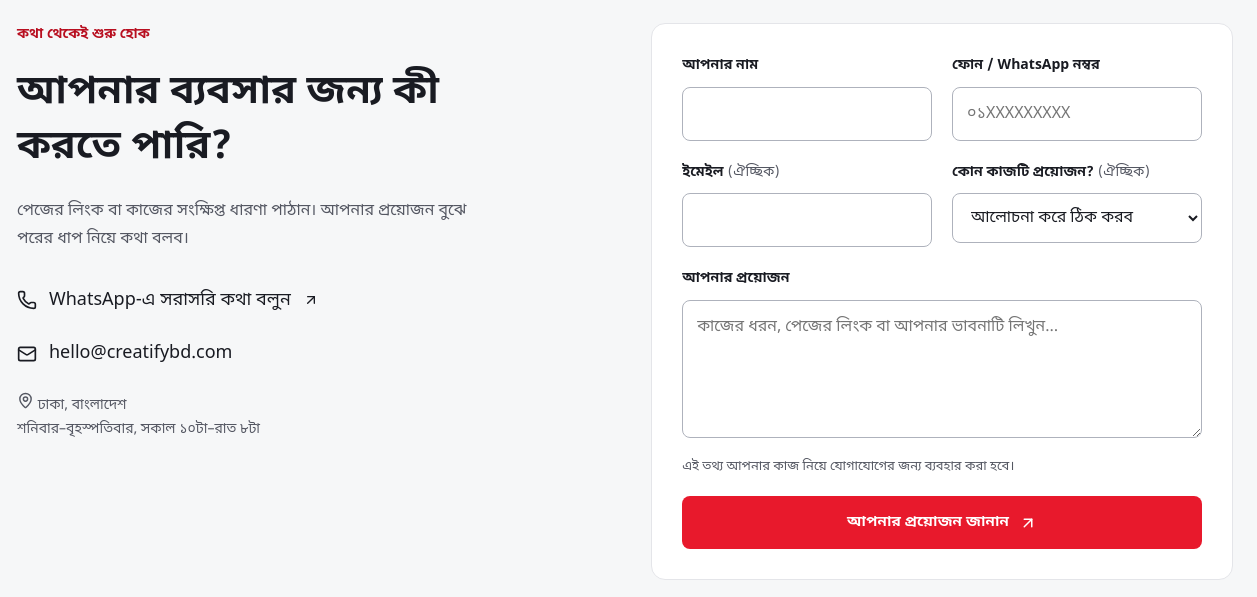
Test: Bengali inquiry form › accepts Bengali phone digits and an empty optional email
This screenshot has width=1257, height=597.
Type "আলিফ হাসান" into the field labelled "আপনার নাম" at (807, 114), box [682,86,932,140]
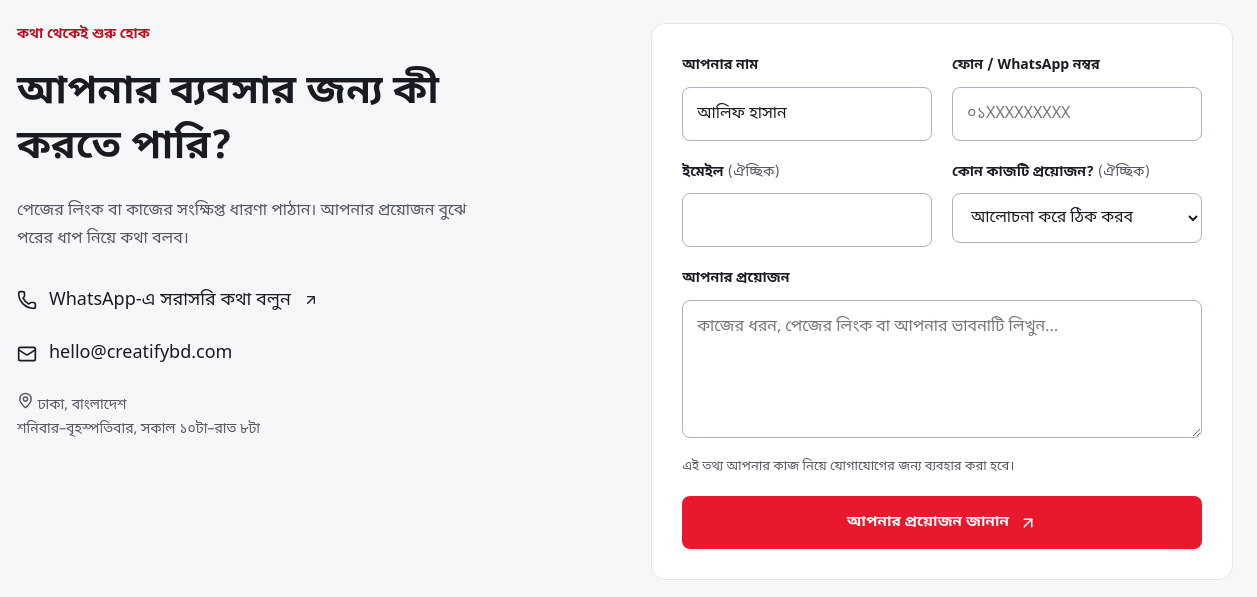
Type "০১৭১২ ৩৪৫৬৭৮" into the field labelled "ফোন / WhatsApp নম্বর" at (1077, 114), box [952,86,1202,140]
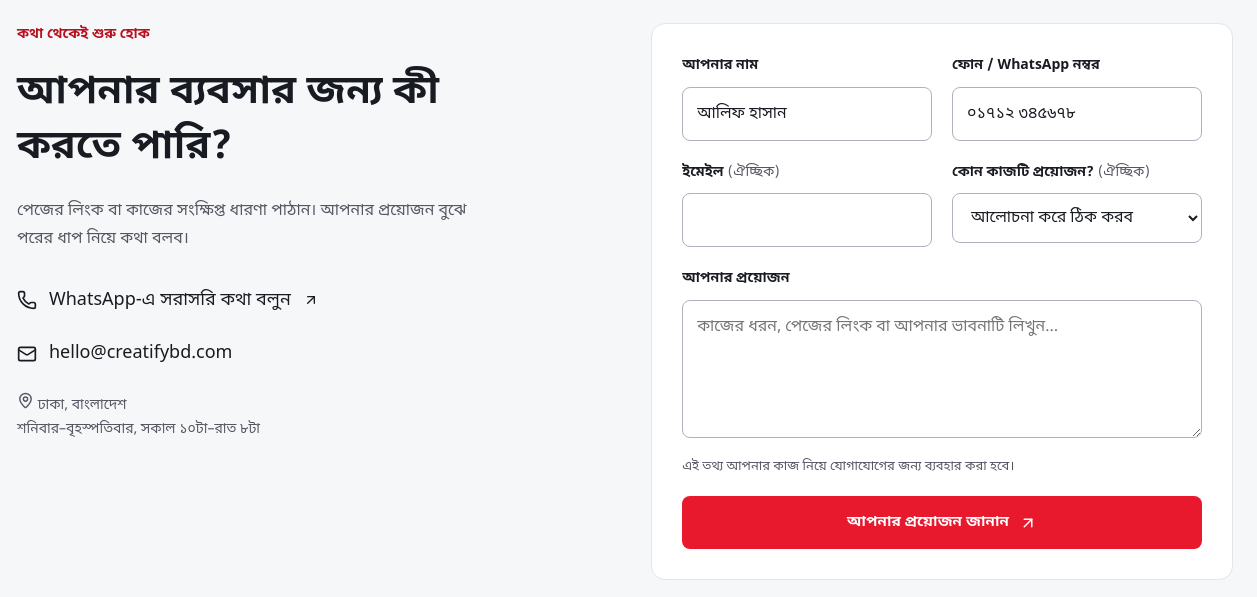
Type "আমার দোকানের জন্য মাসিক পোস্ট ডিজাইন দরকার।" into the text box labelled "আপনার প্রয়োজন" at (942, 368), box [682,300,1202,438]
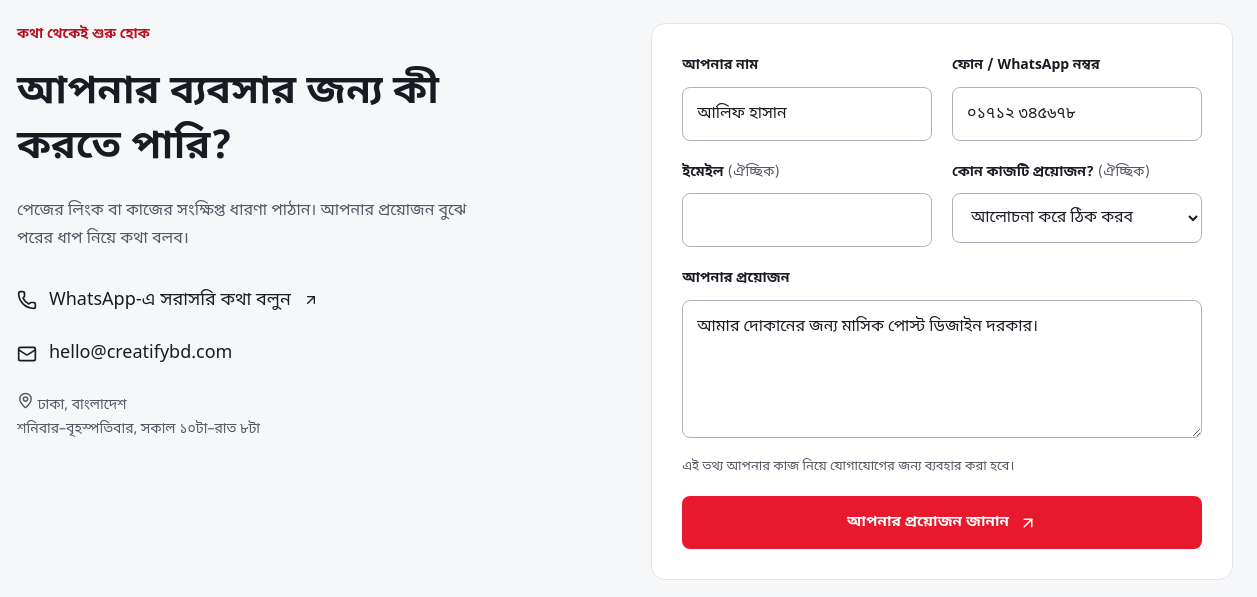
Click the button "আপনার প্রয়োজন জানান" at (942, 523), box [682,496,1202,549]
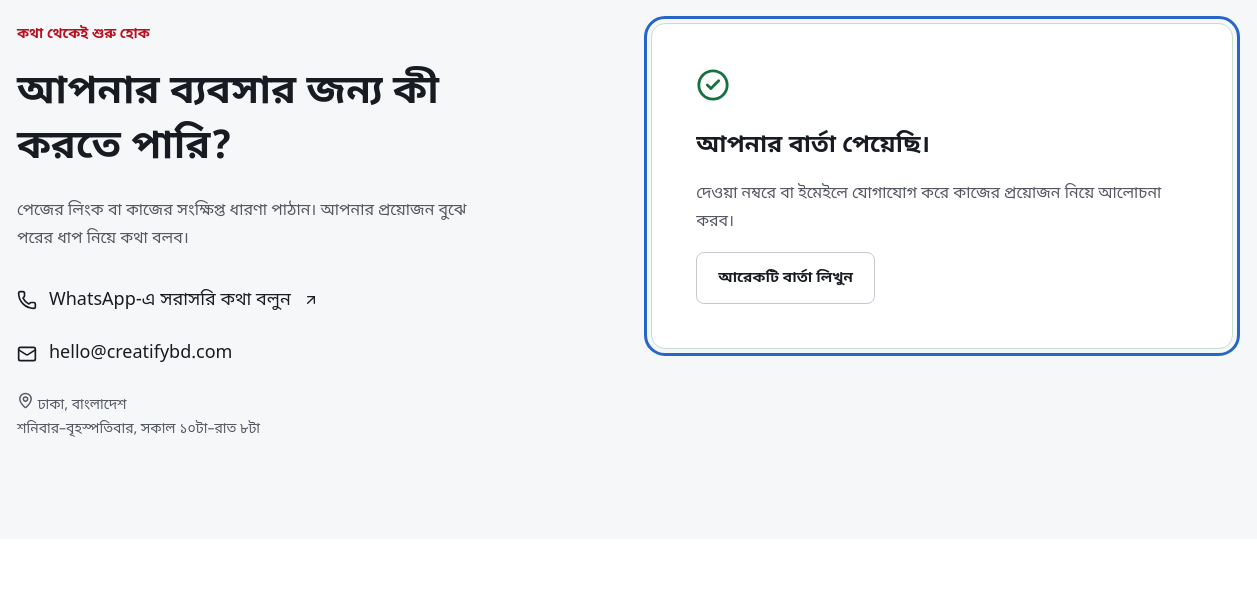
Check: the message shows "আপনার বার্তা পেয়েছি।", box [696,130,930,162]
